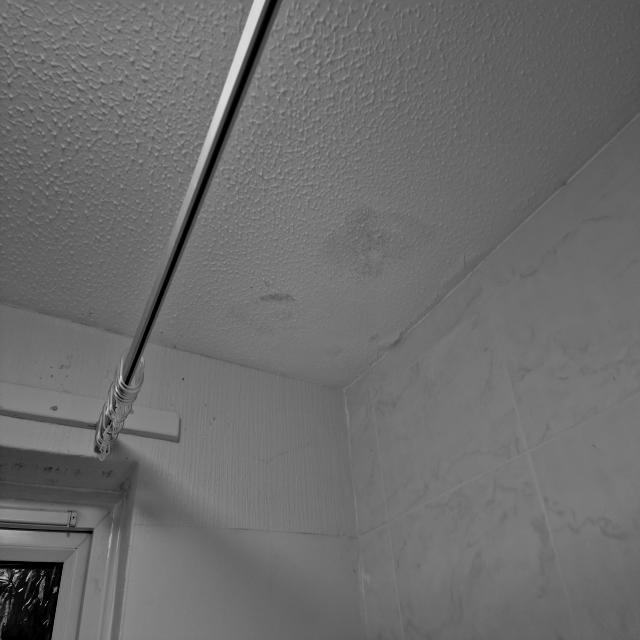stain marks: (343, 386, 640, 640), (364, 126, 640, 382), (320, 206, 426, 289), (238, 280, 308, 324), (322, 328, 384, 363)
